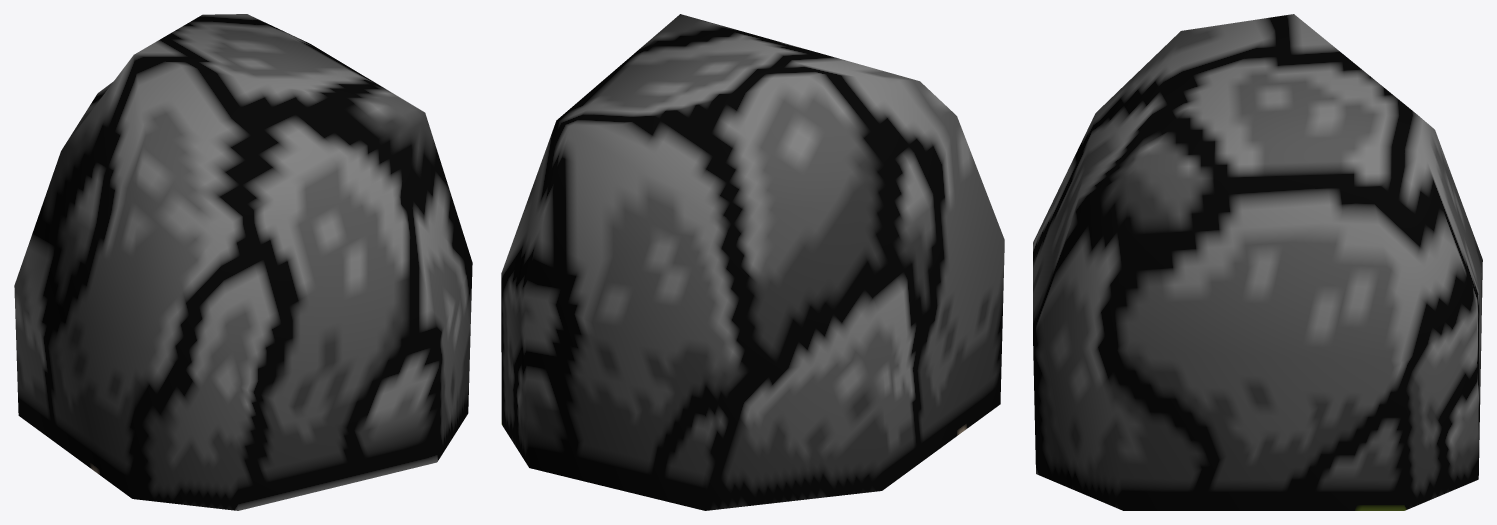
File: deco_boulder_B.FBX
The picture shows the model from 3 angles, left to right: view 1: azimuth 30°, elevation 25°; view 2: azimuth 150°, elevation 25°; view 3: azimuth 270°, elevation 25°; orthographic projection. The views are drawn at different scales.
Parts seen in each view (by area): view 1: deco_boulder_B; view 2: deco_boulder_B; view 3: deco_boulder_B.
Boxes of the visible parts, left/top/right/bottom form: deco_boulder_B: left=14, top=14, right=472, bottom=510; deco_boulder_B: left=501, top=14, right=1004, bottom=510; deco_boulder_B: left=1033, top=14, right=1482, bottom=510.
Size of the model in its own units: 1.7 by 1.71 by 1.88.
1 material, 1 textured.
